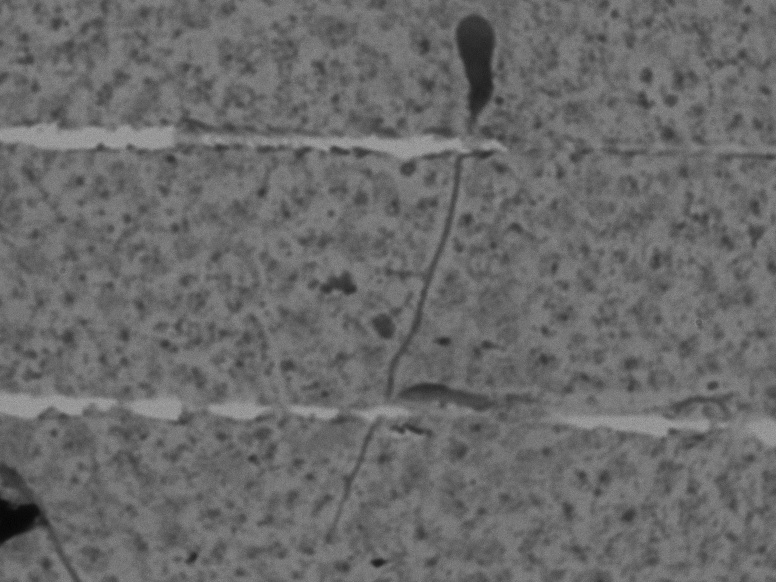Abnormal: (298, 12, 528, 553)
